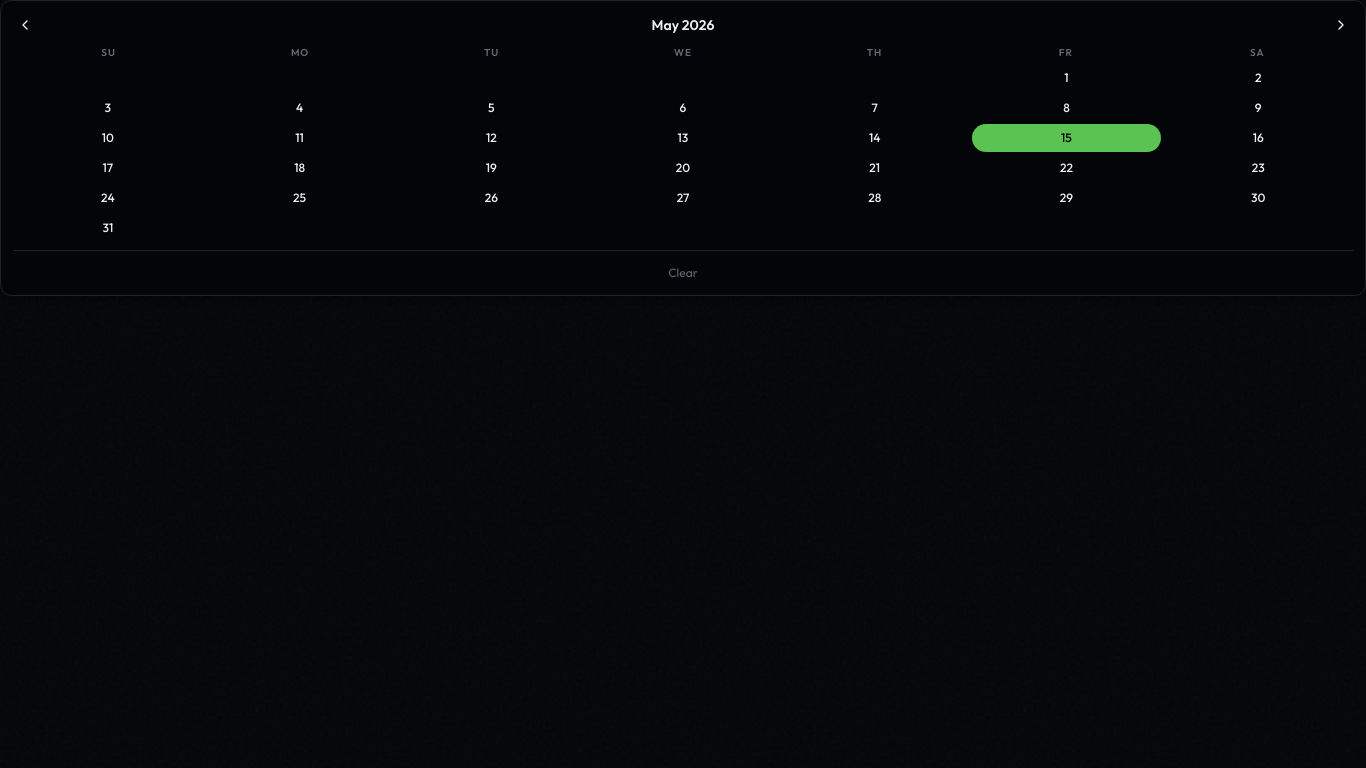
Test: DatePickerMini › clicking the month/year heading opens year picker
This screenshot has width=1366, height=768.
Click the button "May 2026" at (683, 25), box 652,15 -> 714,35
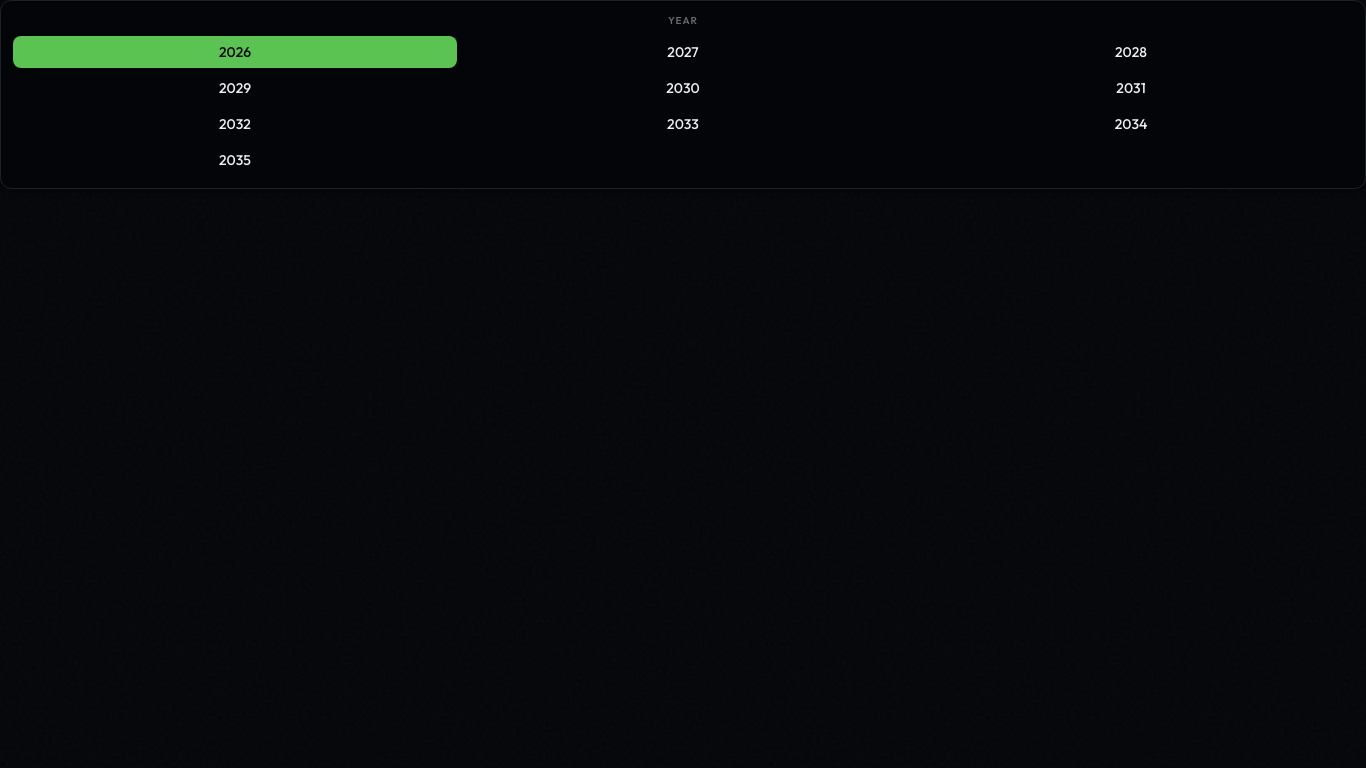
Check: the text "Year" is shown, box 668,14 -> 698,27
